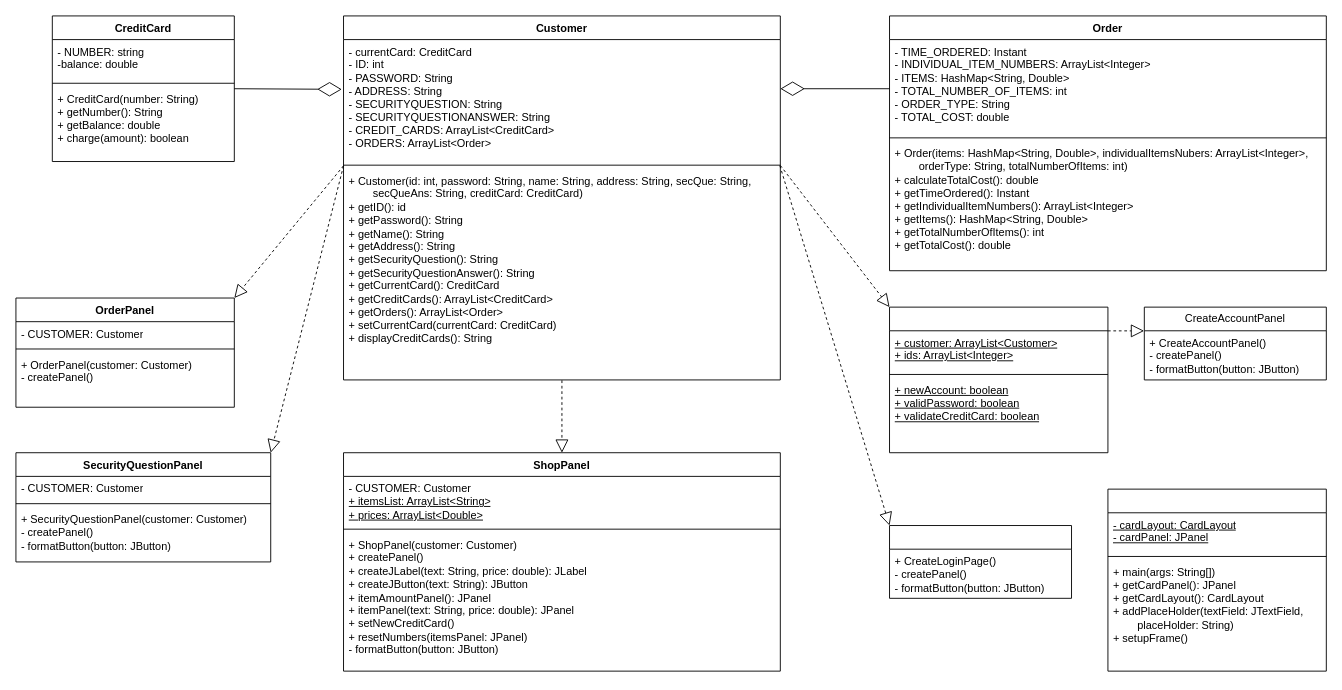
Some shapes in this 1342 by 690 pixel diagram are drawn without their labels. Each missing label, with the box of its shape:
App: (1107, 488, 1326, 671)
CreateAccount: (889, 306, 1108, 453)
CreateLoginPanel: (889, 525, 1072, 598)
